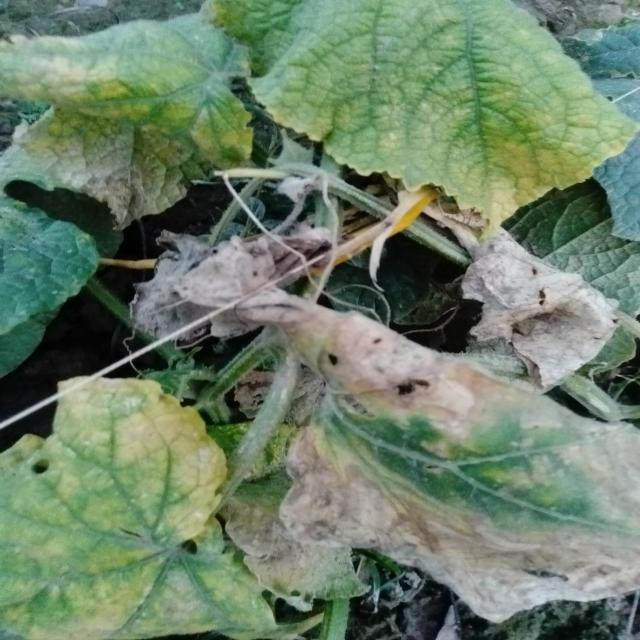cucumber_bacterial: (151, 251, 640, 639), (0, 372, 272, 640), (234, 5, 622, 190), (0, 24, 219, 322), (453, 220, 640, 390)
